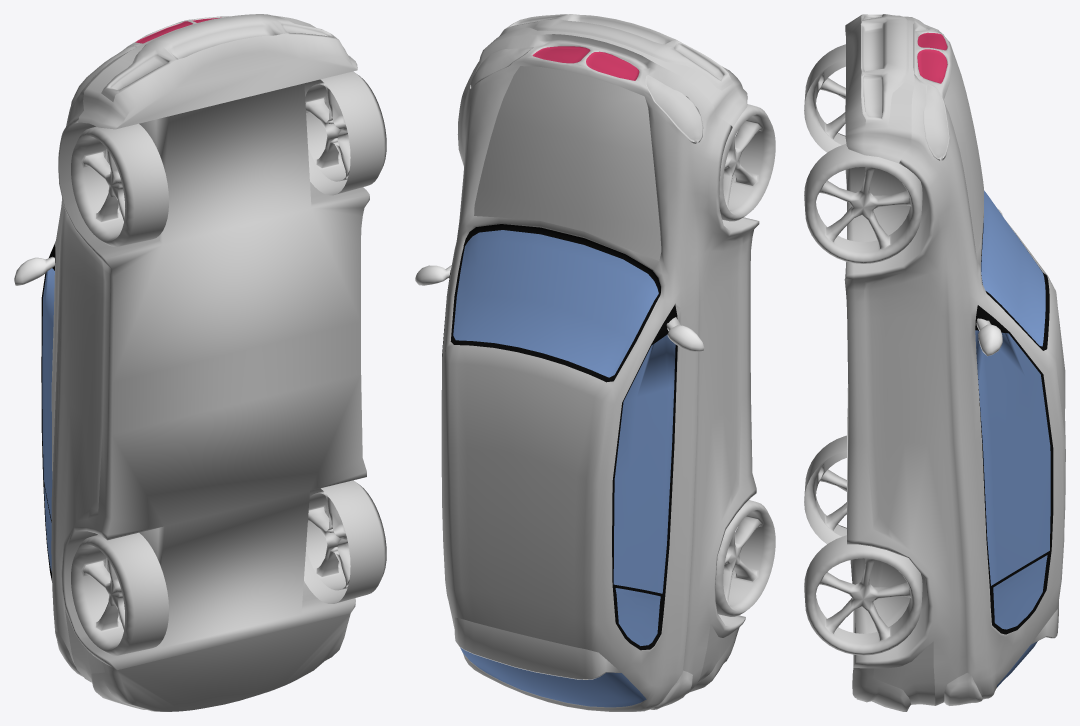
File: bwm-suv-low-5.dae
3 renders of one model, left to right at view 1: azimuth 30°, elevation 25°; view 2: azimuth 150°, elevation 25°; view 3: azimuth 270°, elevation 25°, orthographic. The views are drawn at different scales.
Parts seen in each view (by area): view 1: Circle_008, Circle, Circle_009, Circle_010, Circle_011, Cube_001; view 2: Circle_008, Circle_009, Circle_005, Circle, Circle_000, Cube_001, Circle_006; view 3: Circle_008, Circle_010, Circle_011, Circle_009, Circle, Circle_000, Circle_006, Cube_001.
Boxes of the visible parts, x1=… form: Circle_008: x1=41, y1=14, x2=369, y2=711; Circle: x1=71, y1=123, x2=168, y2=246; Circle_009: x1=71, y1=532, x2=168, y2=655; Circle_010: x1=304, y1=480, x2=386, y2=603; Circle_011: x1=304, y1=71, x2=386, y2=195; Cube_001: x1=14, y1=256, x2=54, y2=285; Circle_008: x1=441, y1=14, x2=759, y2=711; Circle_009: x1=715, y1=500, x2=775, y2=616; Circle_005: x1=454, y1=617, x2=621, y2=679; Circle: x1=719, y1=104, x2=775, y2=221; Circle_000: x1=470, y1=47, x2=703, y2=143; Cube_001: x1=415, y1=265, x2=704, y2=351; Circle_006: x1=650, y1=670, x2=692, y2=709; Circle_008: x1=844, y1=14, x2=1065, y2=711; Circle_010: x1=804, y1=535, x2=922, y2=655; Circle_011: x1=804, y1=144, x2=922, y2=263; Circle_009: x1=804, y1=435, x2=846, y2=543; Circle: x1=804, y1=44, x2=846, y2=152; Circle_000: x1=923, y1=24, x2=949, y2=160; Circle_006: x1=944, y1=673, x2=982, y2=705; Cube_001: x1=976, y1=209, x2=1002, y2=356.
Size of the model in its own units: 9.73 by 7.73 by 21.13.
